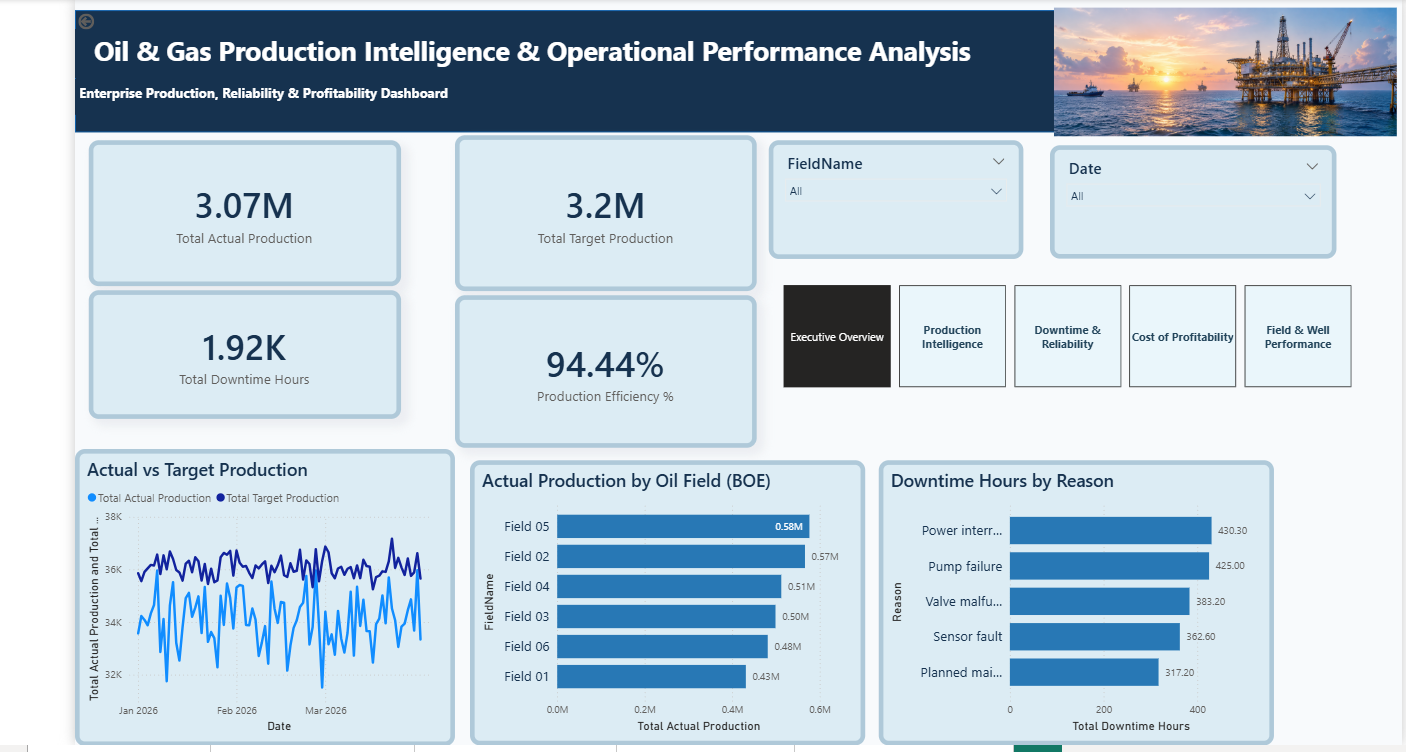

What the dashboard file says about the page in this screenshot:
{"tool":"powerbi","page":{"name":"Executive Overview","canvas":[1600,900],"ordinal":0},"visuals":[{"type":"shape","box":[0,14.3,1193.1,147.4],"z":0},{"type":"textbox","box":[0,36.8,1103.1,59.4],"z":1000},{"type":"image","box":[1176.8,0,423.6,176],"z":2000},{"type":"textbox","box":[0,96.2,699.9,43],"z":3000},{"type":"card","fields":{"Values":["DailyProduction.Total Actual Production"]},"box":[16.4,169.9,376.6,176],"z":4000},{"type":"card","fields":{"Values":["DailyProduction.Total Target Production"]},"box":[458.4,163.7,364.3,188.3],"z":5000},{"type":"card","fields":{"Values":["DailyProduction.Production Efficiency %"]},"box":[458.4,358.1,364.3,184.2],"z":6000},{"type":"card","fields":{"Values":["DailyProduction.Total Downtime Hours"]},"box":[16.4,352,376.6,155.5],"z":7000},{"type":"lineChart","title":"Actual vs Target Production","fields":{"Category":["DailyProduction.Date"],"Y":["DailyProduction.Total Actual Production","DailyProduction.Total Target Production"]},"box":[0,542.3,458.4,358.1],"z":8000},{"type":"clusteredBarChart","title":"Actual Production by Oil Field (BOE)","fields":{"Category":["Fields.FieldName"],"Y":["DailyProduction.Total Actual Production"]},"box":[476.9,556.7,476.9,343.8],"z":9000},{"type":"clusteredBarChart","title":"Downtime Hours by Reason","fields":{"Category":["DowntimeEvents.Reason"],"Y":["DailyProduction.Total Downtime Hours"]},"box":[970.1,556.7,476.9,343.8],"z":10000},{"type":"slicer","fields":{"Values":["Fields.FieldName"]},"box":[837,169.9,307,143.3],"z":11000},{"type":"slicer","fields":{"Values":["DailyProduction.Date"]},"box":[1176.8,176,345.9,137.1],"z":12000},{"type":"pageNavigator","box":[854.8,345.9,690,123.7],"z":13000},{"type":"actionButton","box":[0,0,100,40],"z":14000}]}

Visuals, with their boxes on the page's 1600x900 design canvas (x1, y1, x2, y2). These are canvas units, not pixel positions in the 1406x752 screenshot, which may show the page scaled, cropped or inside an application window:
shape: x1=0, y1=14, x2=1193, y2=162
textbox: x1=0, y1=37, x2=1103, y2=96
image: x1=1177, y1=0, x2=1600, y2=176
textbox: x1=0, y1=96, x2=700, y2=139
card - DailyProduction.Total Actual Production: x1=16, y1=170, x2=393, y2=346
card - DailyProduction.Total Target Production: x1=458, y1=164, x2=823, y2=352
card - DailyProduction.Production Efficiency %: x1=458, y1=358, x2=823, y2=542
card - DailyProduction.Total Downtime Hours: x1=16, y1=352, x2=393, y2=508
"Actual vs Target Production" lineChart: x1=0, y1=542, x2=458, y2=900
"Actual Production by Oil Field (BOE)" clusteredBarChart: x1=477, y1=557, x2=954, y2=900
"Downtime Hours by Reason" clusteredBarChart: x1=970, y1=557, x2=1447, y2=900
slicer - Fields.FieldName: x1=837, y1=170, x2=1144, y2=313
slicer - DailyProduction.Date: x1=1177, y1=176, x2=1523, y2=313
pageNavigator: x1=855, y1=346, x2=1545, y2=470
actionButton: x1=0, y1=0, x2=100, y2=40
